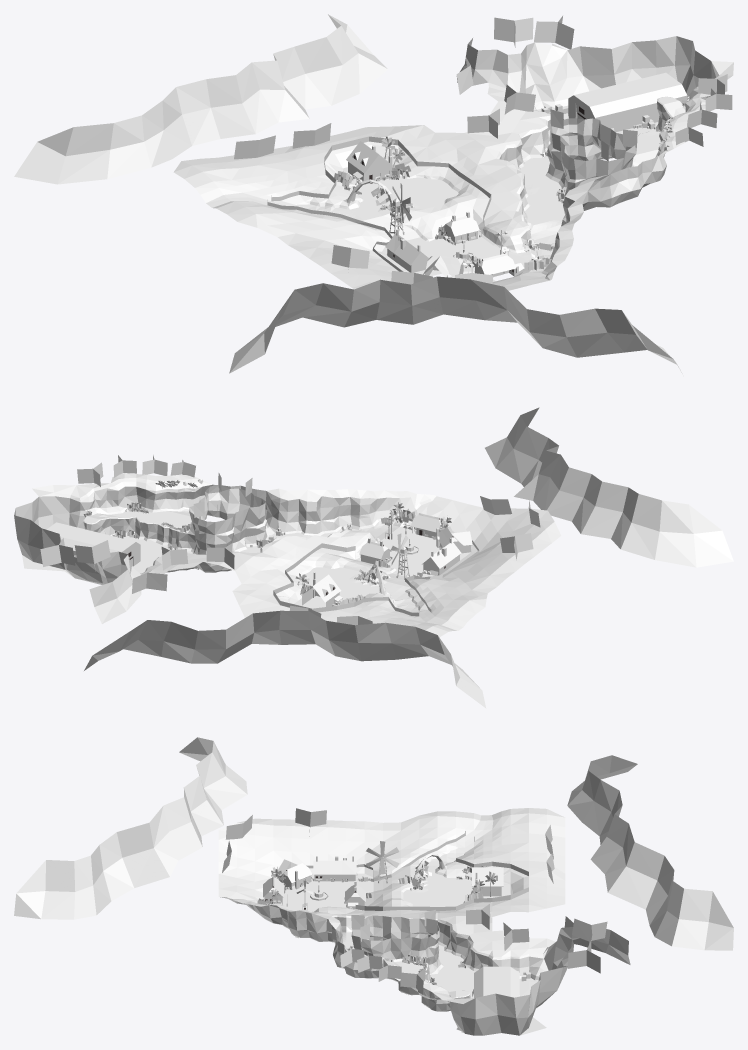
The model's file is village_of_eights.glb.
3 views of the same model, one above another, from view 1: azimuth 30°, elevation 25°; view 2: azimuth 150°, elevation 25°; view 3: azimuth 270°, elevation 25° (orthographic). The views are drawn at different scales.
Parts seen in each view (by area): view 1: Material3.084, Material3.093, Material3.066, Material3.095, Material3.005, Material3.045, Material3.042, Material3.020, Material3.076, Material3.047, Material3.063, Material3.096 (+6 smaller); view 2: Material3.084, Material3.093, Material3.095, Material3.066, Material3.005, Material3.045, Material3.042, Material3.020, Material3.076, Material3.036, Material3.070, Material3.064 (+5 smaller); view 3: Material3.084, Material3.095, Material3.093, Material3.066, Material3.005, Material3.045, Material3.042, Material3.020, Material3.036, Material3.064, Material3.076, Material3.063 (+2 smaller).
Boxes of the visible parts, left/top/right/bottom form: Material3.084: left=173, top=61, right=733, bottom=290; Material3.093: left=37, top=26, right=711, bottom=357; Material3.066: left=14, top=25, right=698, bottom=373; Material3.095: left=66, top=14, right=715, bottom=358; Material3.005: left=234, top=16, right=732, bottom=284; Material3.045: left=248, top=96, right=684, bottom=271; Material3.042: left=346, top=141, right=515, bottom=276; Material3.020: left=267, top=136, right=548, bottom=276; Material3.076: left=243, top=107, right=685, bottom=271; Material3.047: left=206, top=133, right=659, bottom=260; Material3.063: left=588, top=77, right=663, bottom=103; Material3.096: left=574, top=72, right=687, bottom=121; Material3.084: left=32, top=473, right=561, bottom=637; Material3.093: left=14, top=415, right=721, bottom=685; Material3.095: left=14, top=407, right=693, bottom=666; Material3.066: left=17, top=437, right=733, bottom=708; Material3.005: left=40, top=455, right=540, bottom=625; Material3.045: left=83, top=507, right=434, bottom=619; Material3.042: left=302, top=515, right=472, bottom=602; Material3.020: left=273, top=516, right=479, bottom=616; Material3.076: left=93, top=509, right=439, bottom=622; Material3.036: left=339, top=531, right=439, bottom=600; Material3.070: left=293, top=520, right=424, bottom=609; Material3.064: left=22, top=553, right=162, bottom=577; Material3.084: left=218, top=808, right=565, bottom=1003; Material3.095: left=16, top=737, right=733, bottom=1025; Material3.093: left=74, top=737, right=683, bottom=1035; Material3.066: left=14, top=752, right=733, bottom=1035; Material3.005: left=222, top=808, right=607, bottom=994; Material3.045: left=287, top=830, right=483, bottom=998; Material3.042: left=263, top=859, right=503, bottom=901; Material3.020: left=306, top=833, right=528, bottom=911; Material3.036: left=279, top=881, right=472, bottom=907; Material3.064: left=446, top=978, right=546, bottom=1035; Material3.076: left=282, top=829, right=492, bottom=1011; Material3.063: left=483, top=972, right=510, bottom=996.
Bounding box in the file's own units: 10.23 × 1.21 × 11.3.
Materials: 97 (7 with a texture image).
